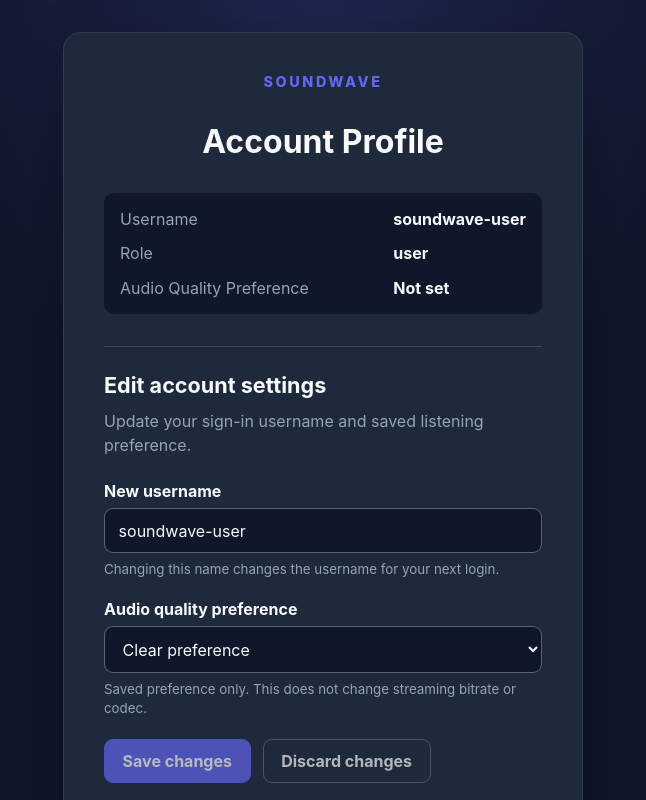
Test case: SCRUM-359 profile editor › discards unsaved changes without making a PATCH request
This screenshot has width=646, height=800.
Replace the text in the field labelled "New username" with "temporary" at (323, 531), box [104,508,542,553]
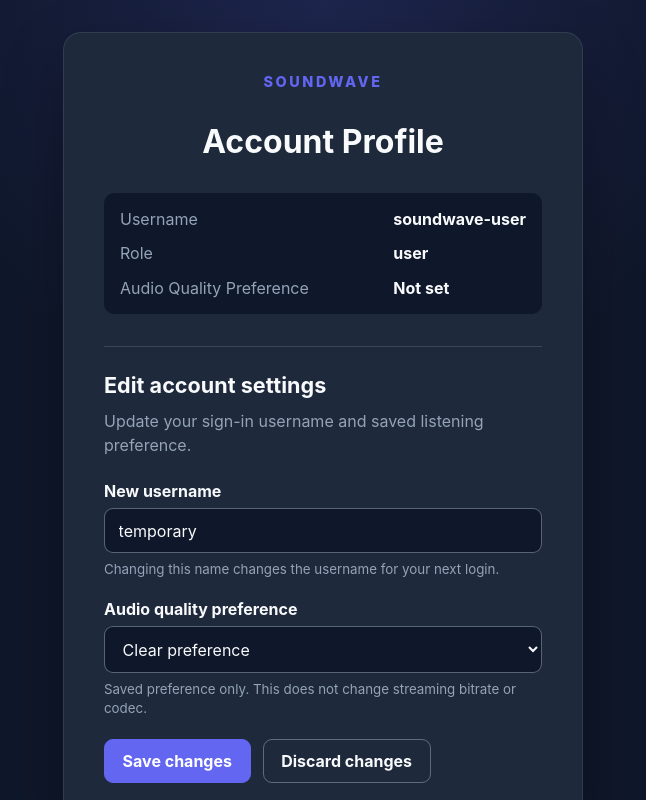
Click the button "Discard changes" at (347, 761), box [262,739,431,783]
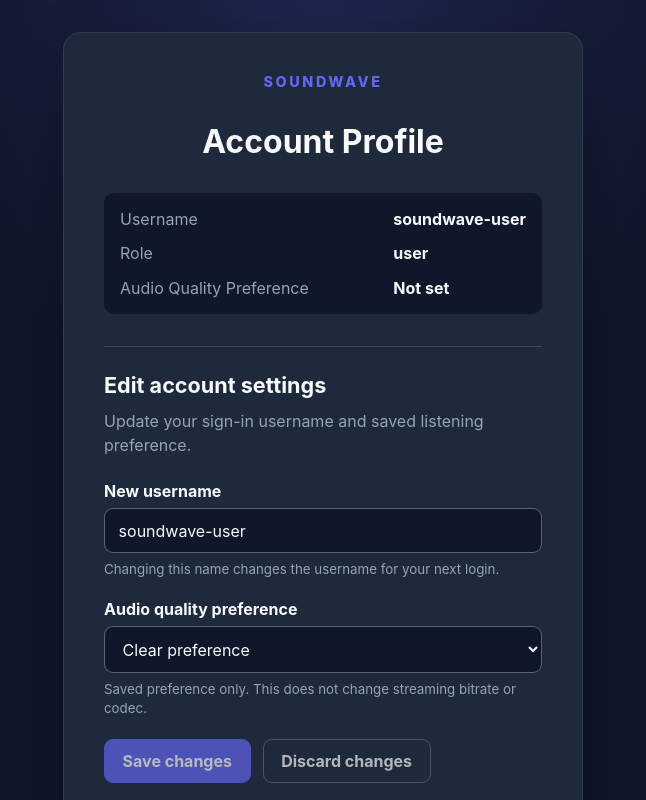
expect the field labelled "New username" holds "soundwave-user": met, box [104,508,542,553]
